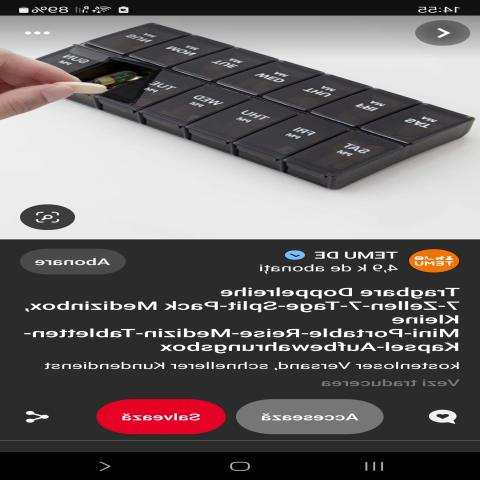Pill-box: (27, 18, 472, 208)
